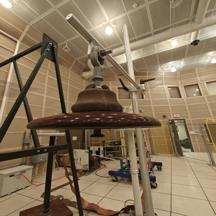insulator: (21, 81, 166, 151)
